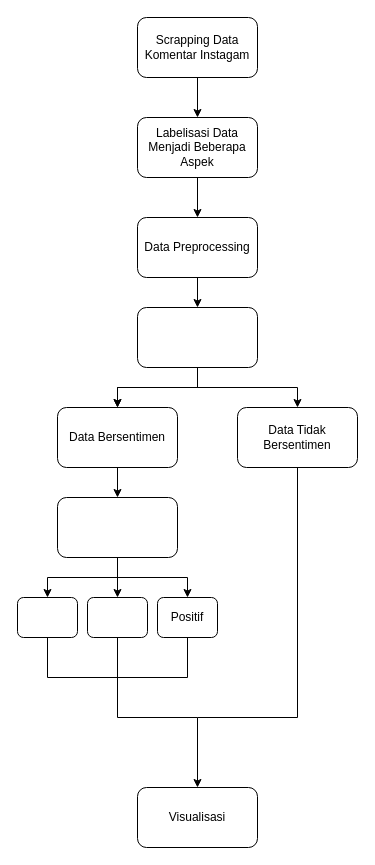
This 375x865 diagram has some shape labels left out. The box of each missing label's shape, as (x1, y1, x2, y2) in pixels:
Analisis Sentimen: (136, 306, 258, 368)
Negatif: (16, 596, 78, 638)
Netral: (86, 596, 148, 638)
Rule Based: (56, 496, 178, 558)
